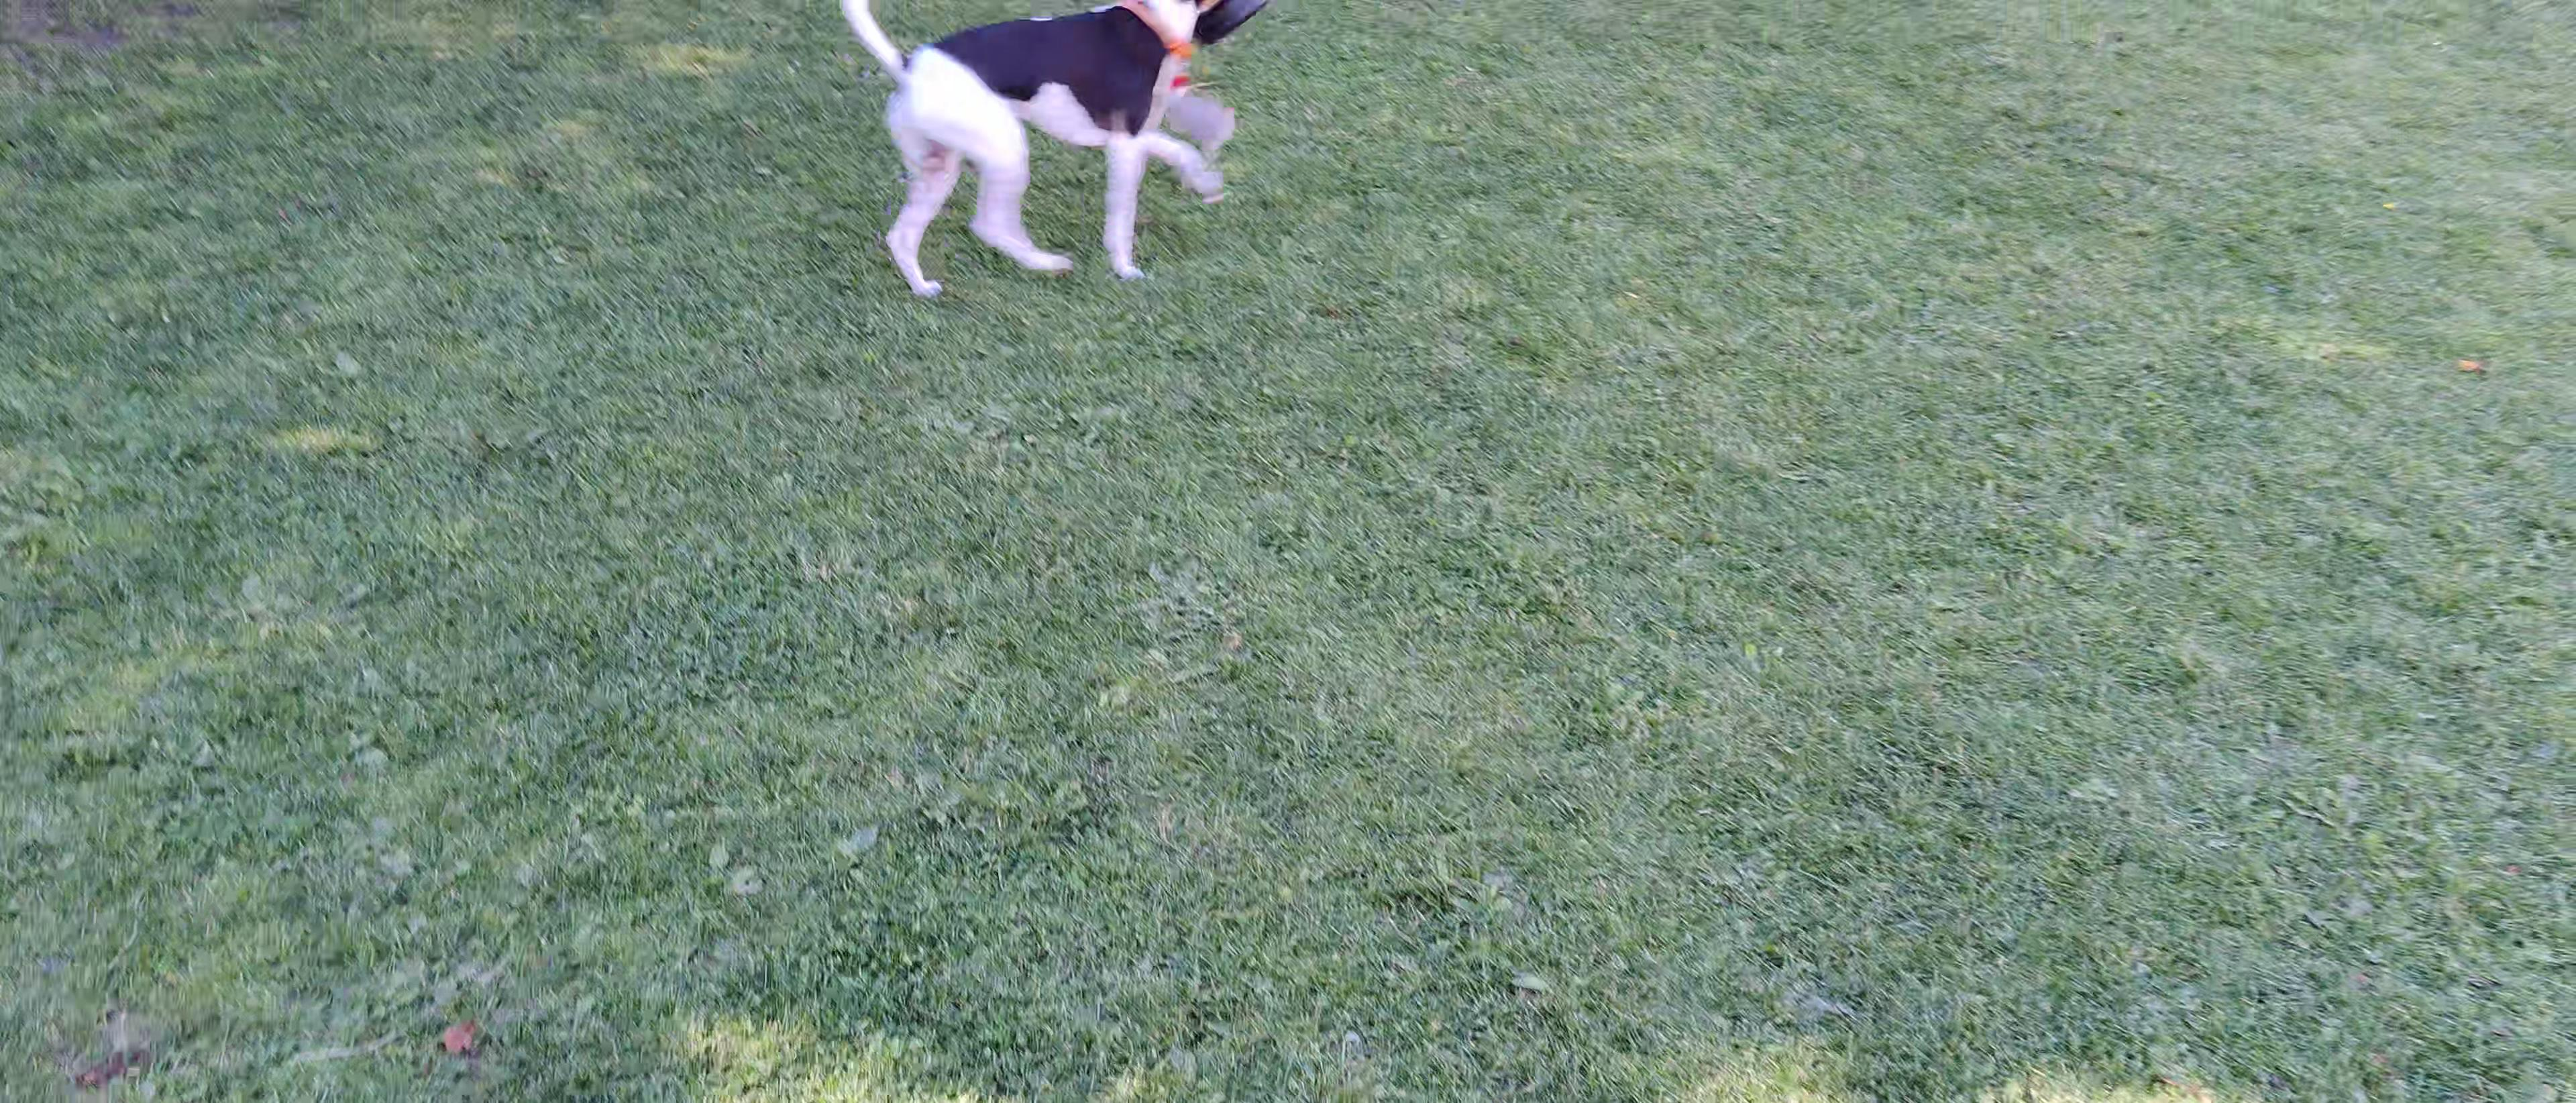Dog: (826, 0, 1232, 304)
